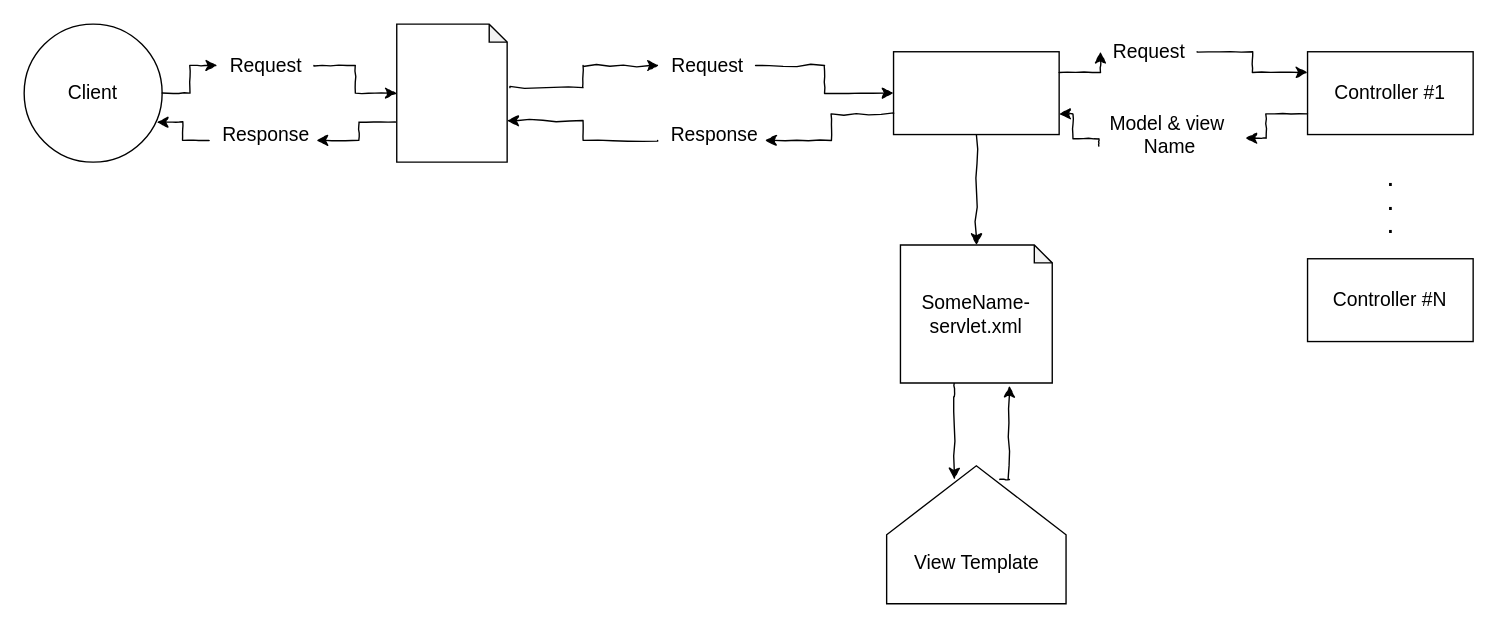
Some shapes in this 1497 by 628 pixel diagram are drawn without their labels. Here are the shapes that lost their labels. From the top down, the box of each, then its label:
(395, 23, 507, 162): Web.xml
(892, 50, 1059, 135): Front Controller (DispatcherServlet)
